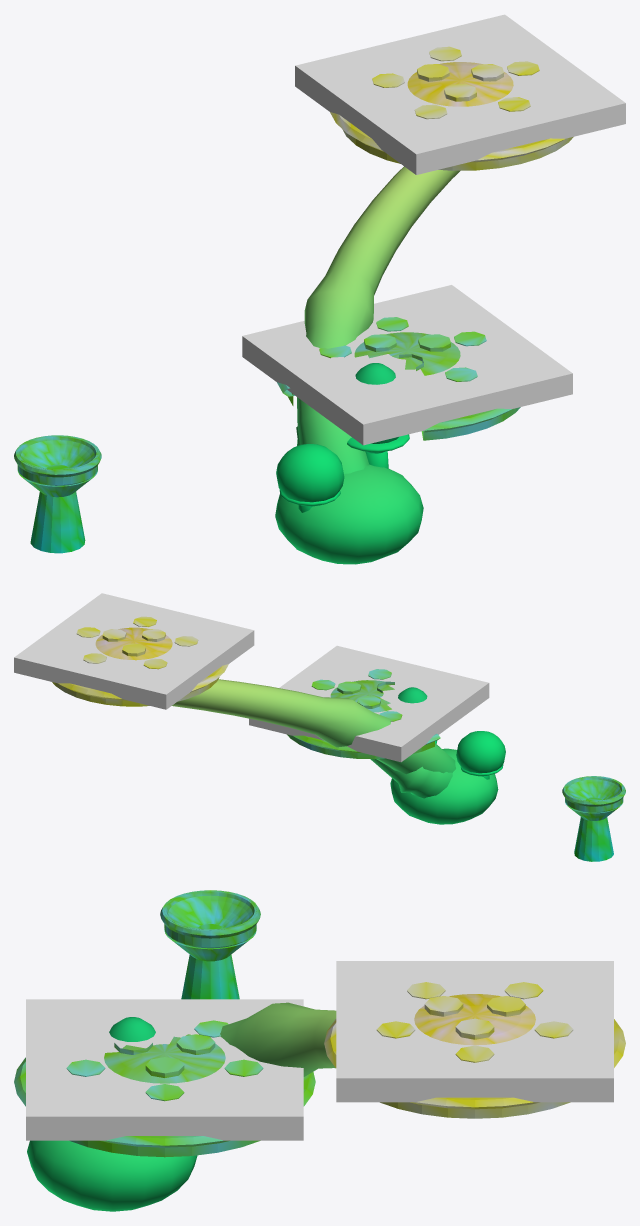
The model's file is Plant_Platform_02.fbx.
The picture shows the model from 3 angles, top to bottom: view 1: azimuth 30°, elevation 25°; view 2: azimuth 150°, elevation 25°; view 3: azimuth 270°, elevation 25°; orthographic projection. The views are drawn at different scales.
Parts seen in each view (by area): view 1: Plant_Platform_02, COL_02_1, COL_02_0; view 2: Plant_Platform_02, COL_02_1, COL_02_0; view 3: Plant_Platform_02, COL_02_1, COL_02_0.
Boxes of the visible parts, left/top/right/bottom form: Plant_Platform_02: left=14, top=46, right=573, bottom=564; COL_02_1: left=295, top=14, right=625, bottom=174; COL_02_0: left=242, top=285, right=572, bottom=445; Plant_Platform_02: left=52, top=616, right=625, bottom=861; COL_02_1: left=14, top=593, right=254, bottom=709; COL_02_0: left=249, top=645, right=489, bottom=762; Plant_Platform_02: left=14, top=890, right=625, bottom=1211; COL_02_1: left=336, top=961, right=613, bottom=1102; COL_02_0: left=26, top=999, right=303, bottom=1140.
Bounding box in the file's own units: 6.71 × 2.83 × 4.63.
